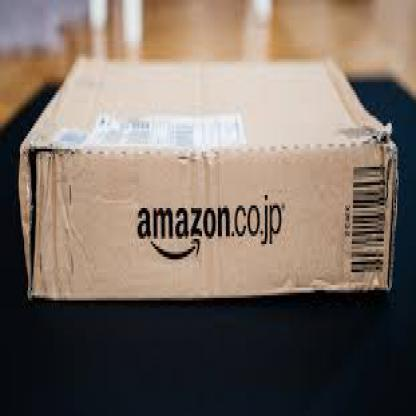package: (15, 56, 401, 308)
